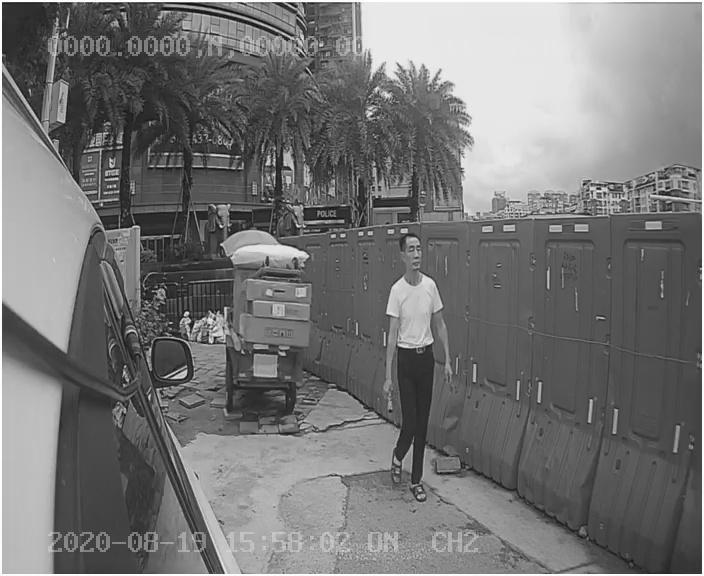person: (377, 228, 458, 508)
